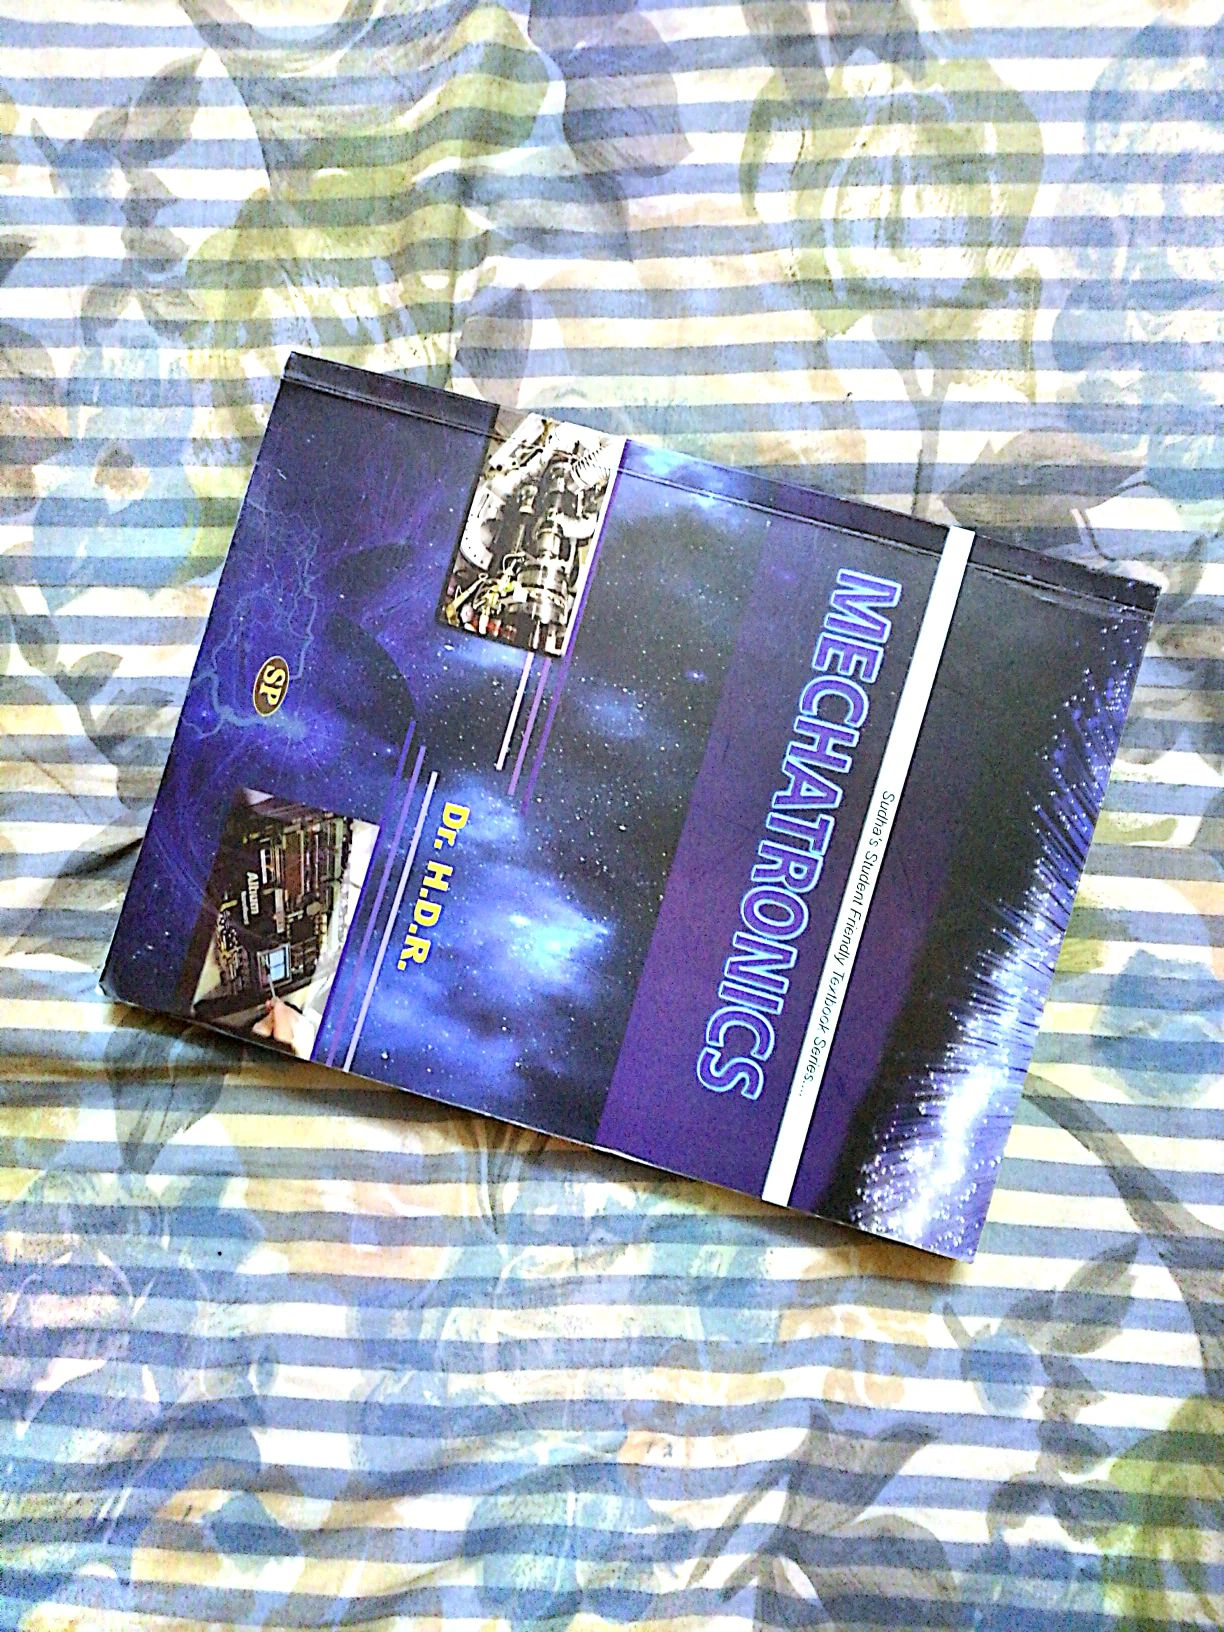mechatronics: (103, 332, 1158, 1331)
